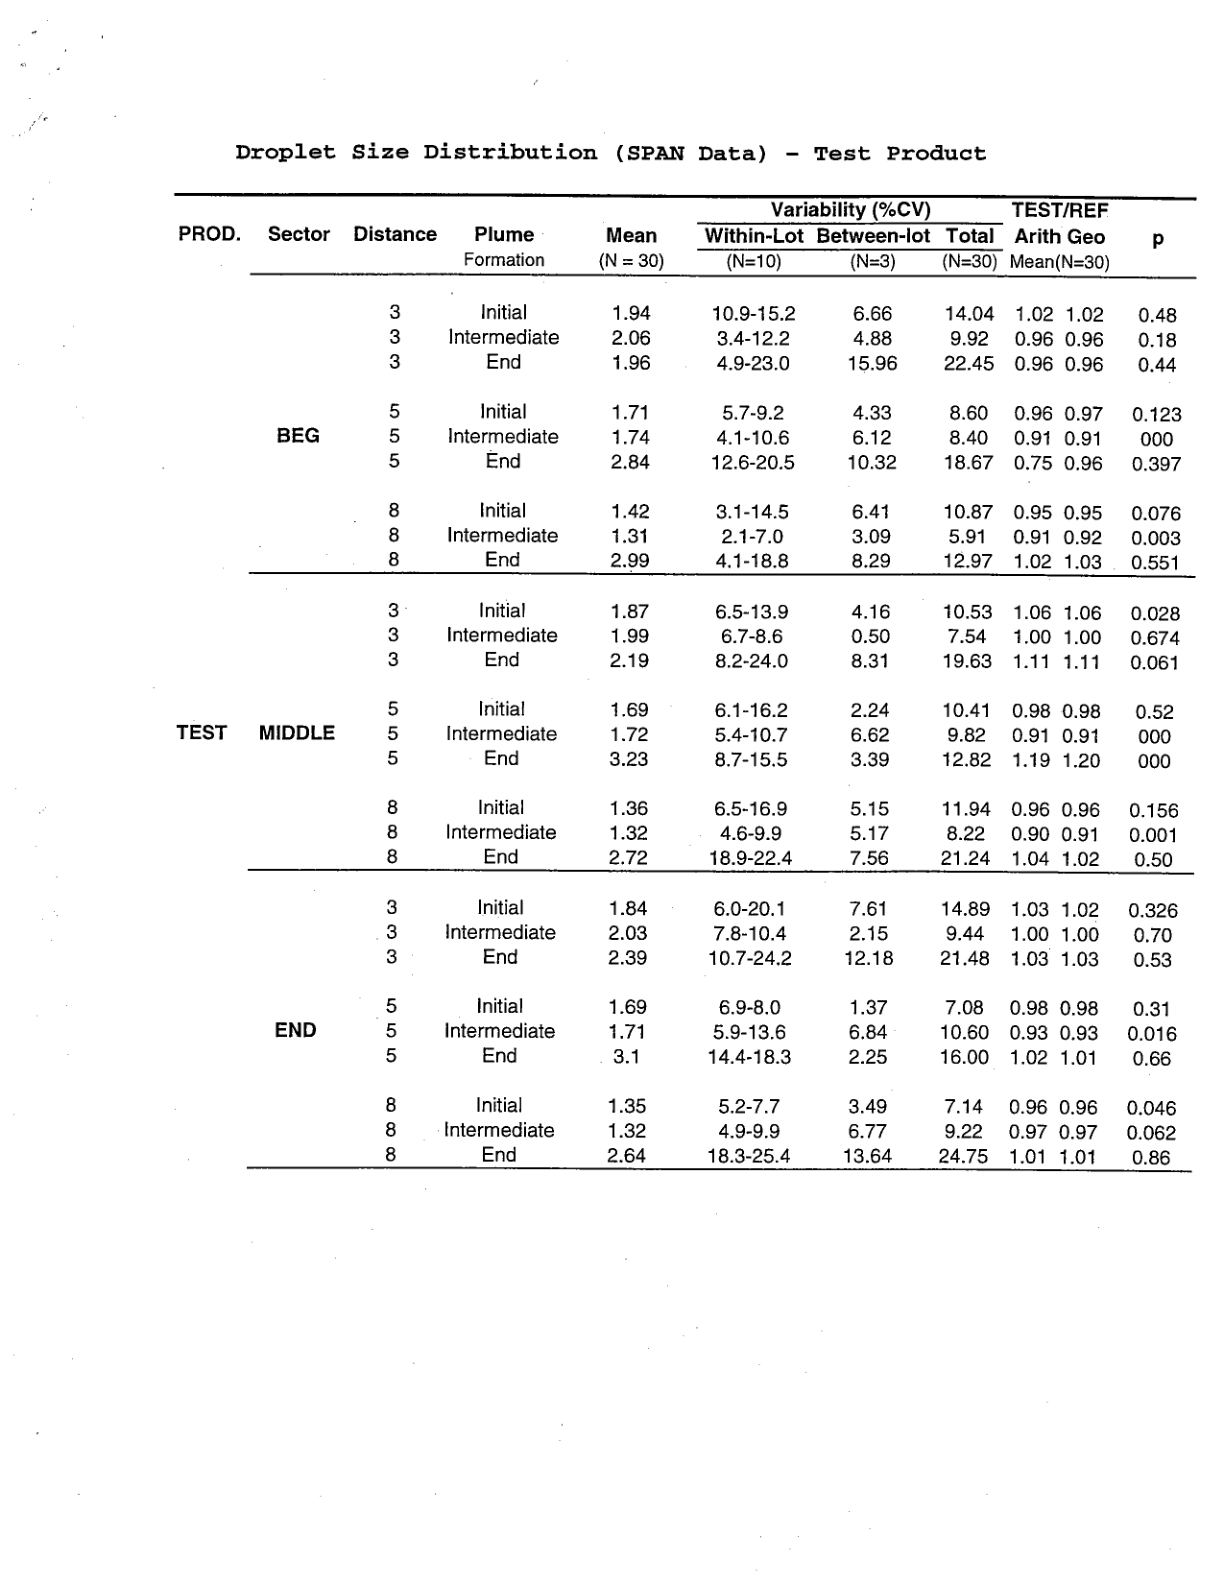partial_lined_merged_cells: (167, 188, 1203, 1179)
